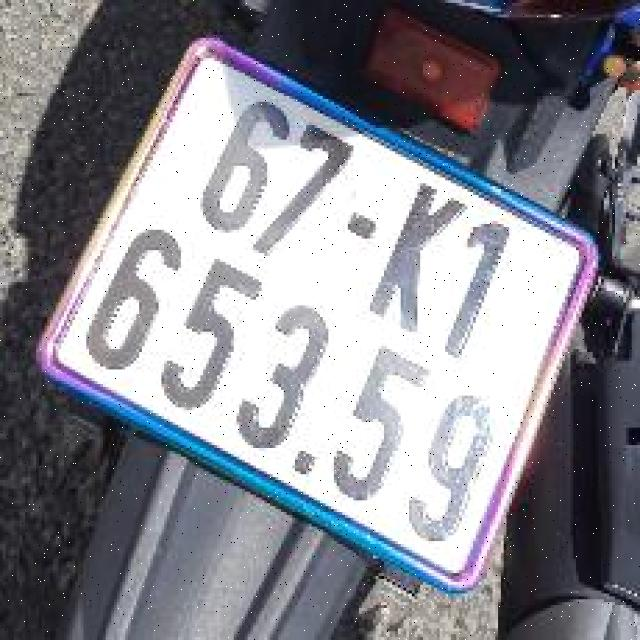1: (413, 198, 530, 375)
3: (219, 286, 347, 466)
5: (138, 245, 275, 431), (310, 331, 441, 520)
6: (70, 212, 199, 391), (181, 82, 300, 251)
7: (243, 110, 369, 273)
9: (393, 377, 514, 567)
K: (357, 172, 475, 346)
